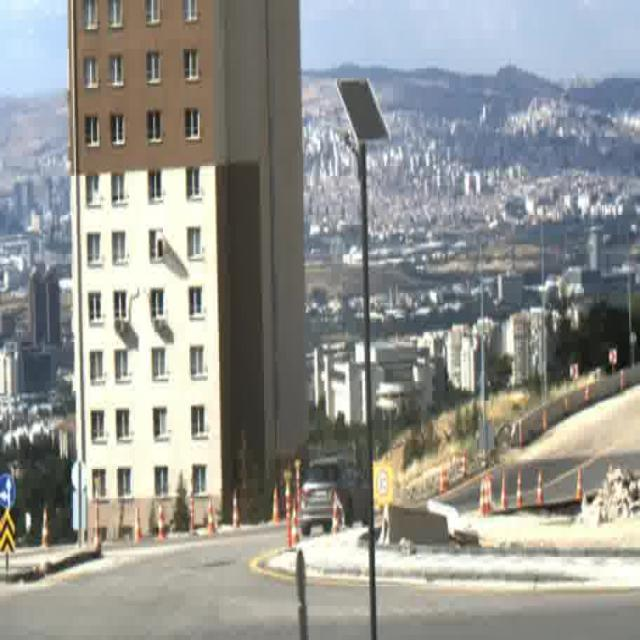Car: (302, 456, 372, 534)
